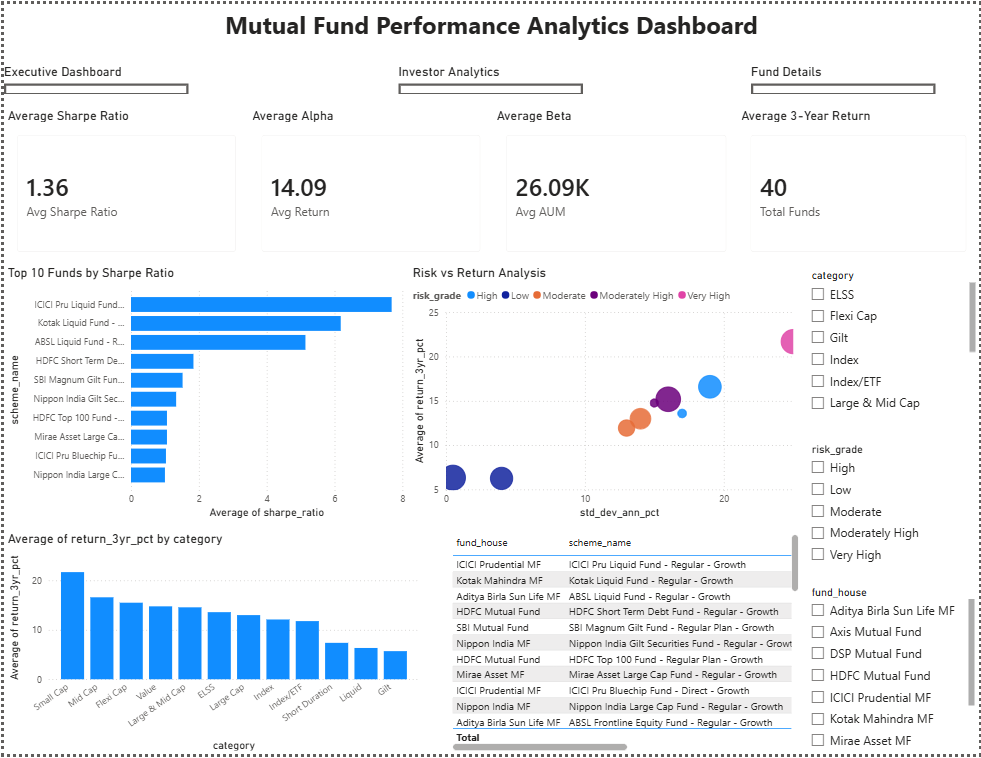

This screenshot's page, from the dashboard's own definition file:
{"tool":"powerbi","page":{"name":"Fund Performance Analytics","canvas":[1300,1000],"ordinal":2},"visuals":[{"type":"cardVisual","title":"Average Sharpe Ratio","fields":{"Data":["clean_investor_transactions.Avg Sharpe Ratio"]},"box":[0,138,326,210],"z":0},{"type":"cardVisual","title":"Average Alpha","fields":{"Data":["clean_investor_transactions.Avg Return"]},"box":[326,138,326,210],"z":1},{"type":"cardVisual","title":"Average Beta","fields":{"Data":["clean_investor_transactions.Avg AUM"]},"box":[652,138,328,210],"z":2},{"type":"cardVisual","title":"Average 3-Year Return","fields":{"Data":["clean_investor_transactions.Total Funds"]},"box":[978,138,322,210],"z":3},{"type":"clusteredBarChart","title":"Top 10 Funds by Sharpe Ratio","fields":{"Category":["clean_scheme_performance.scheme_name"],"Y":["Avg(clean_scheme_performance.sharpe_ratio)"]},"box":[0,348,540,342],"z":4},{"type":"scatterChart","title":"Risk vs Return Analysis","fields":{"Y":["Avg(clean_scheme_performance.return_3yr_pct)"],"X":["clean_scheme_performance.std_dev_ann_pct"],"Size":["Avg(clean_scheme_performance.aum_crore)"],"Series":["clean_scheme_performance.risk_grade"]},"box":[540,348,524,342],"z":5},{"type":"clusteredColumnChart","fields":{"Category":["clean_scheme_performance.category"],"Y":["Avg(clean_scheme_performance.return_3yr_pct)"]},"box":[0,702,558,298],"z":6},{"type":"slicer","fields":{"Values":["clean_scheme_performance.category"]},"box":[1064,348,236,208],"z":7},{"type":"slicer","fields":{"Values":["clean_scheme_performance.risk_grade"]},"box":[1064,580,236,190],"z":8},{"type":"slicer","fields":{"Values":["clean_scheme_performance.fund_house"]},"box":[1064.8,769.4,235.1,231.2],"z":9},{"type":"textbox","box":[0,0,1299.9,79.7],"z":10},{"type":"tableEx","fields":{"Values":["clean_scheme_performance.fund_house","clean_scheme_performance.scheme_name","Sum(clean_scheme_performance.sharpe_ratio)","Sum(clean_scheme_performance.return_3yr_pct)","Sum(clean_scheme_performance.aum_crore)"]},"box":[592,702,472,298],"z":11},{"type":"actionButton","title":"Executive Dashboard","box":[0,80,246,40],"z":12},{"type":"actionButton","title":"Fund Details","box":[996,80,246,40],"z":13},{"type":"actionButton","title":"Investor Analytics","box":[526,80,246,40],"z":14}]}

Visuals, with their boxes in screenshot pixels (x1, y1, x2, y2), scaled from the page's 1300x1000 canvas onto the 981x758 screenshot:
"Average Sharpe Ratio" cardVisual: l=0, t=105, r=246, b=264
"Average Alpha" cardVisual: l=246, t=105, r=492, b=264
"Average Beta" cardVisual: l=492, t=105, r=740, b=264
"Average 3-Year Return" cardVisual: l=738, t=105, r=980, b=264
"Top 10 Funds by Sharpe Ratio" clusteredBarChart: l=0, t=264, r=407, b=523
"Risk vs Return Analysis" scatterChart: l=407, t=264, r=803, b=523
clusteredColumnChart - clean_scheme_performance.category x Avg(clean_scheme_performance.return_3yr_pct): l=0, t=532, r=421, b=757
slicer - clean_scheme_performance.category: l=803, t=264, r=980, b=421
slicer - clean_scheme_performance.risk_grade: l=803, t=440, r=980, b=584
slicer - clean_scheme_performance.fund_house: l=804, t=583, r=980, b=757
textbox: l=0, t=0, r=980, b=60
tableEx - clean_scheme_performance.fund_house x clean_scheme_performance.scheme_name: l=447, t=532, r=803, b=757
"Executive Dashboard" actionButton: l=0, t=61, r=186, b=91
"Fund Details" actionButton: l=752, t=61, r=937, b=91
"Investor Analytics" actionButton: l=397, t=61, r=583, b=91
